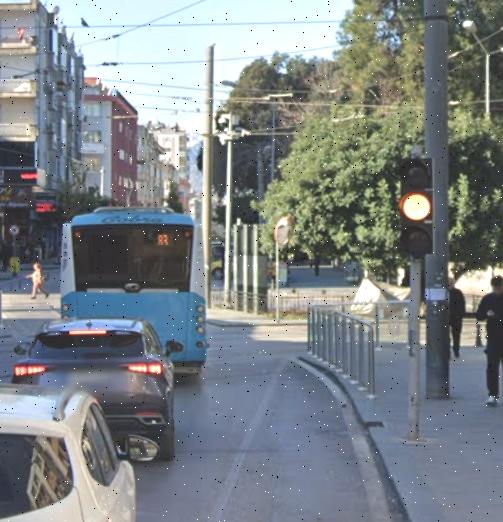yellowlight: (403, 158, 431, 262)
